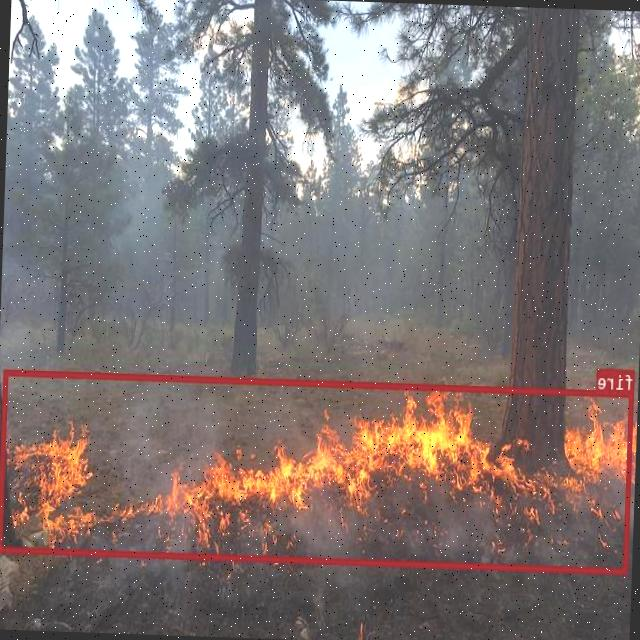fire: (0, 368, 634, 573)
